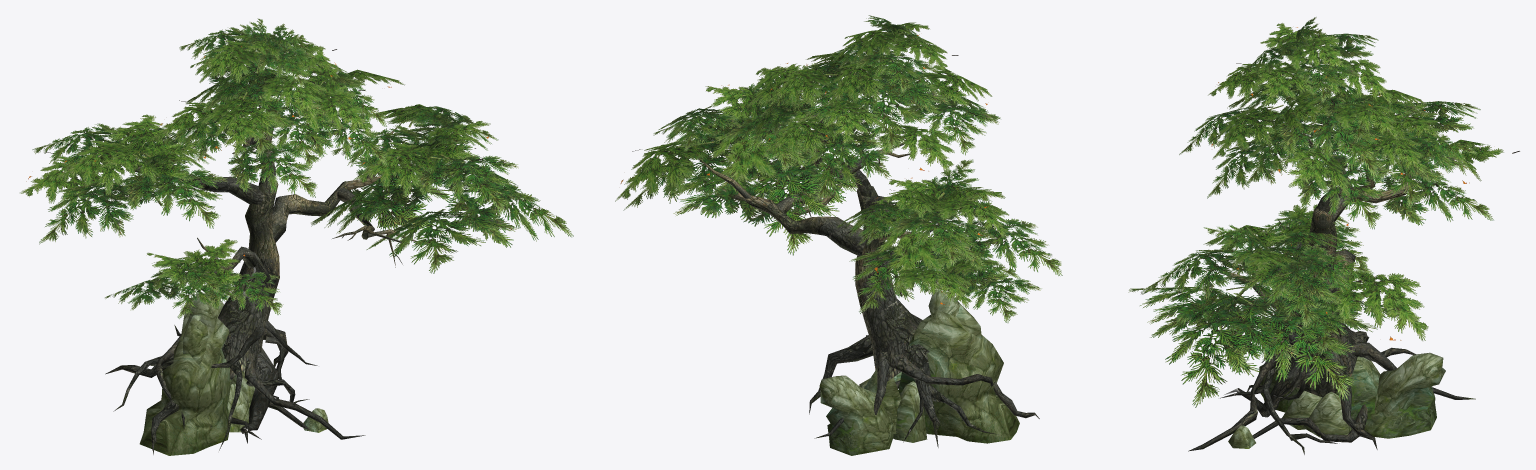
Rendered from 4004_Item_shu_1.FBX.
3 renders of one model, left to right at view 1: azimuth 30°, elevation 25°; view 2: azimuth 150°, elevation 25°; view 3: azimuth 270°, elevation 25°, orthographic. The views are drawn at different scales.
Bounding box in the file's own units: 2211 × 1724 × 1574.
